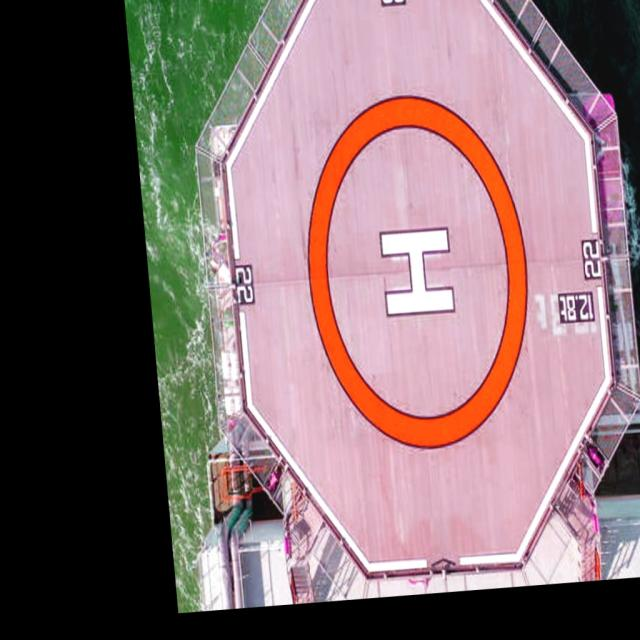helipad: (291, 85, 544, 461)
